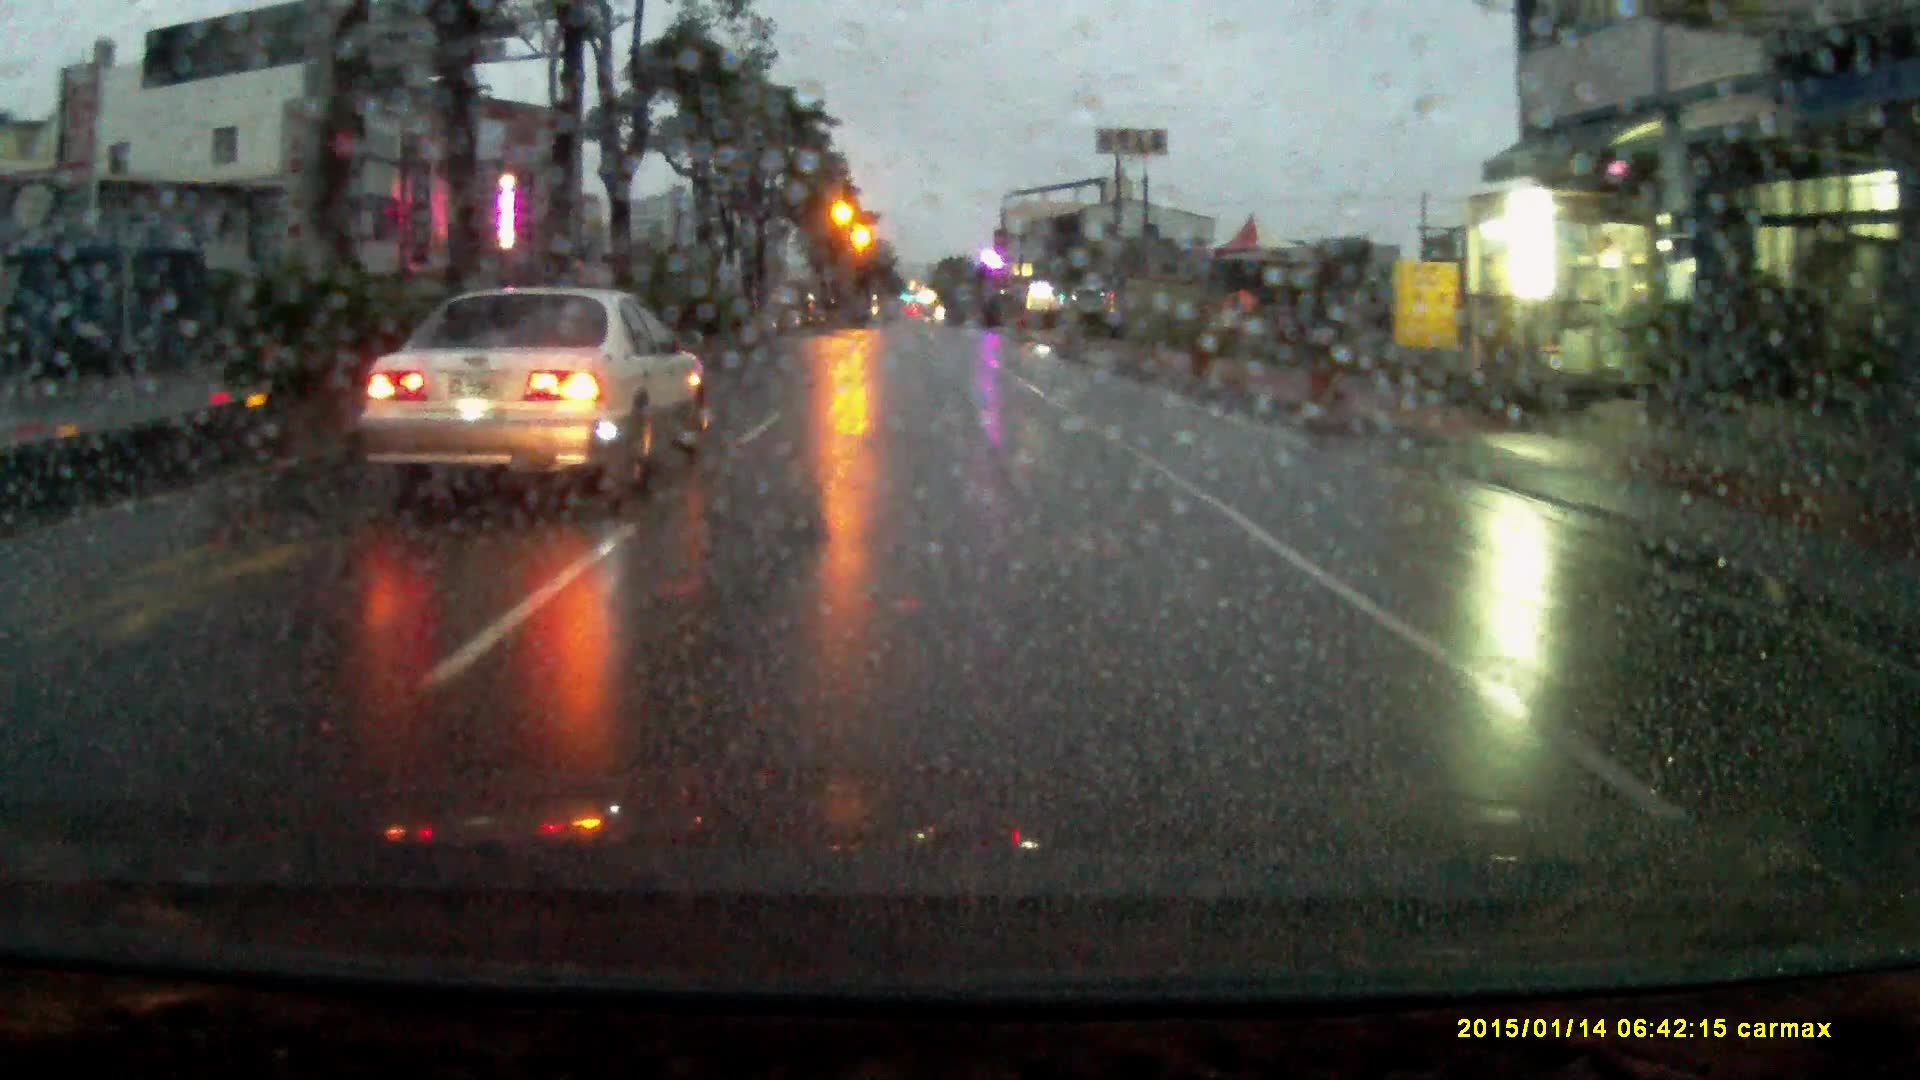vehicle: (352, 289, 711, 509)
